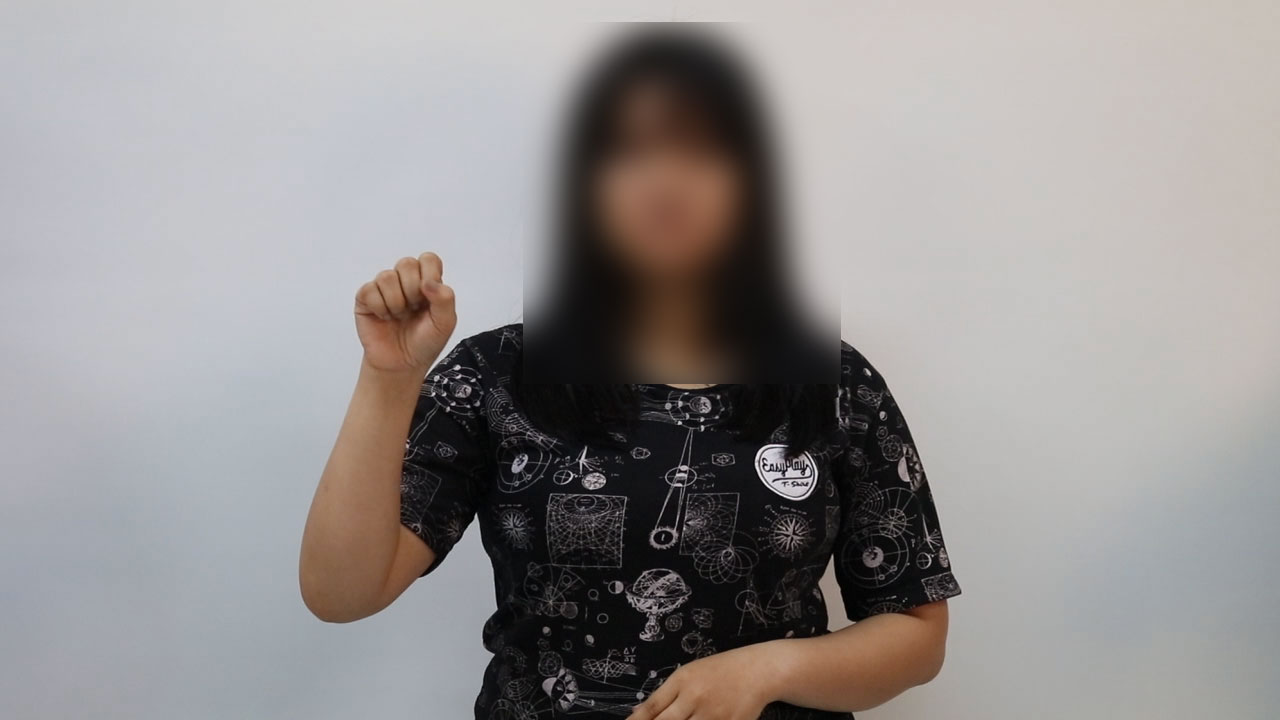sor: (339, 245, 467, 385)
